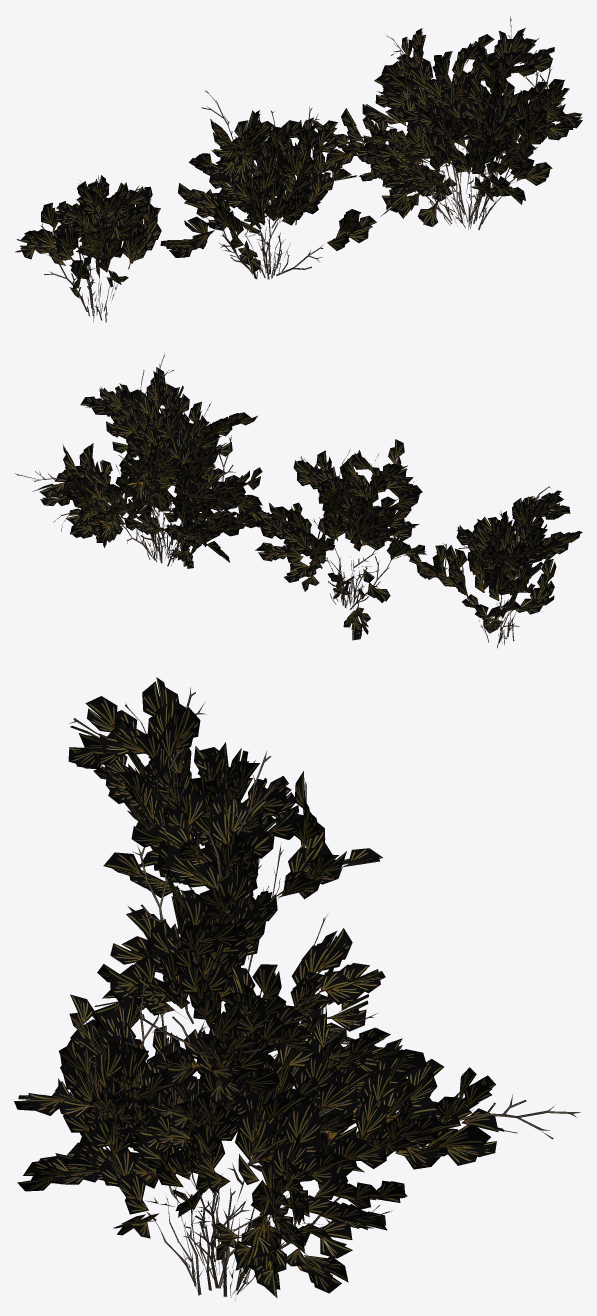
Rendered from arbusto-seco.glb.
3 renders of one model, top to bottom at view 1: azimuth 30°, elevation 25°; view 2: azimuth 150°, elevation 25°; view 3: azimuth 270°, elevation 25°, orthographic. The views are drawn at different scales.
Parts seen in each view (by area): view 1: wild_rooibos_bush_a, wild_rooibos_bush_b, wild_rooibos_bush_c; view 2: wild_rooibos_bush_a, wild_rooibos_bush_b, wild_rooibos_bush_c; view 3: wild_rooibos_bush_a, wild_rooibos_bush_b, wild_rooibos_bush_c.
Boxes of the visible parts, left/top/right/bottom form: wild_rooibos_bush_a: left=313, top=16, right=582, bottom=230; wild_rooibos_bush_b: left=160, top=90, right=376, bottom=279; wild_rooibos_bush_c: left=15, top=175, right=161, bottom=322; wild_rooibos_bush_a: left=15, top=353, right=273, bottom=568; wild_rooibos_bush_b: left=255, top=439, right=426, bottom=640; wild_rooibos_bush_c: left=409, top=486, right=582, bottom=648; wild_rooibos_bush_a: left=14, top=966, right=580, bottom=1300; wild_rooibos_bush_b: left=84, top=750, right=385, bottom=1066; wild_rooibos_bush_c: left=68, top=677, right=382, bottom=972.
Bounding box in the file's own units: 1.64 × 0.5409 × 0.8433.
Materials: 3 (3 with a texture image).
